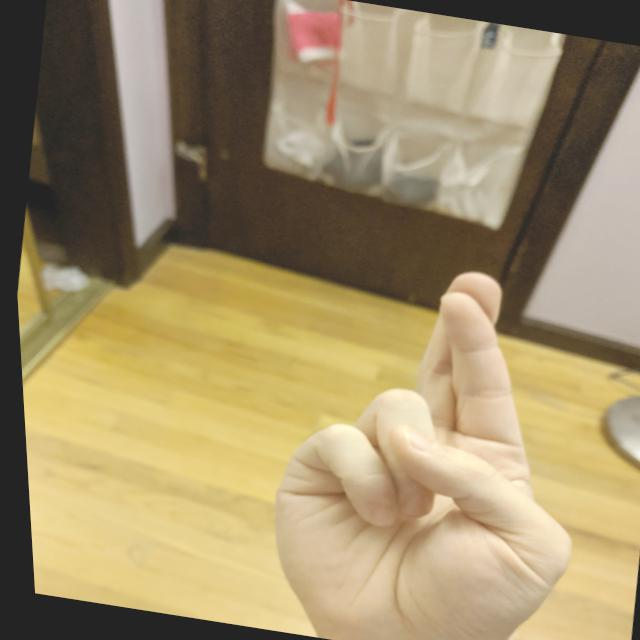R: (226, 236, 621, 639)
